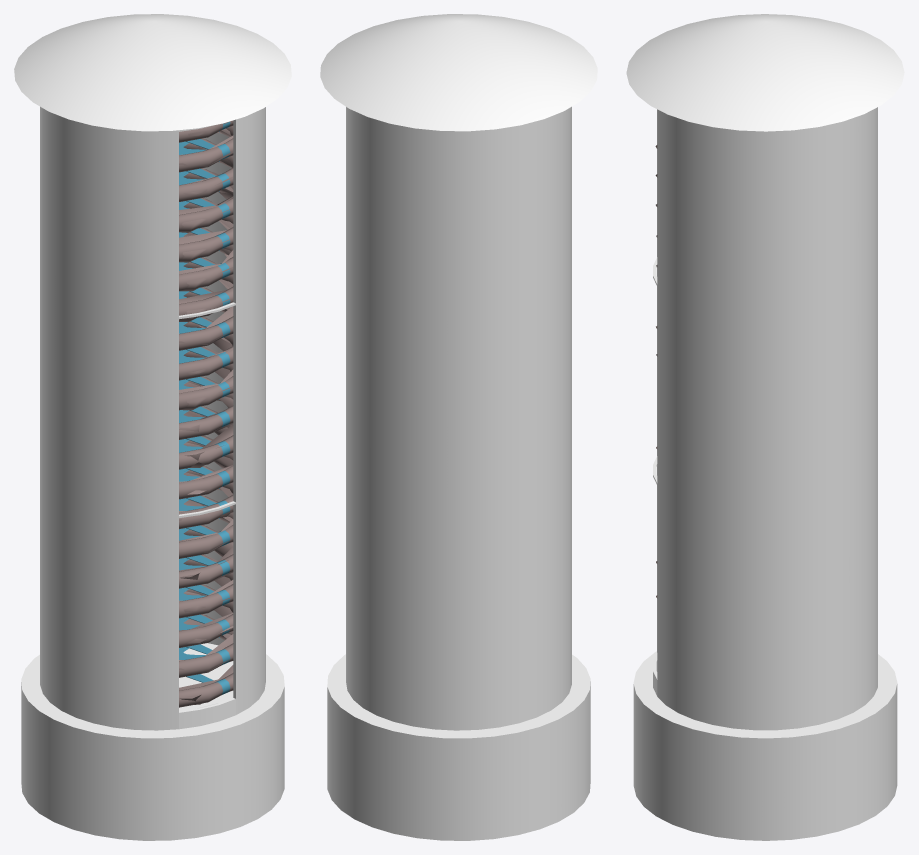
The model's file is Flywheel_Tower.glb.
3 views of the same model, side by side, from view 1: azimuth 30°, elevation 25°; view 2: azimuth 150°, elevation 25°; view 3: azimuth 270°, elevation 25° (orthographic).
Visible parts, largest first — view 1: FlywheelTower, FlywheelSpokes_Opt, FlywheelSpokes_LOD0, FlywheelTower_LOD0; view 2: FlywheelTower, FlywheelTower_LOD0; view 3: FlywheelTower, FlywheelTower_LOD0.
Part boxes in pixels (box(x1,y1,x2,y2)): FlywheelTower: box(14, 14, 291, 840); FlywheelSpokes_Opt: box(179, 120, 233, 707); FlywheelSpokes_LOD0: box(179, 121, 233, 704); FlywheelTower_LOD0: box(22, 133, 279, 737); FlywheelTower: box(320, 14, 597, 840); FlywheelTower_LOD0: box(329, 658, 589, 737); FlywheelTower: box(626, 14, 904, 840); FlywheelTower_LOD0: box(636, 657, 896, 736).
Size of what is drawn, in the model's own units: 7.38 by 22.35 by 7.38.
